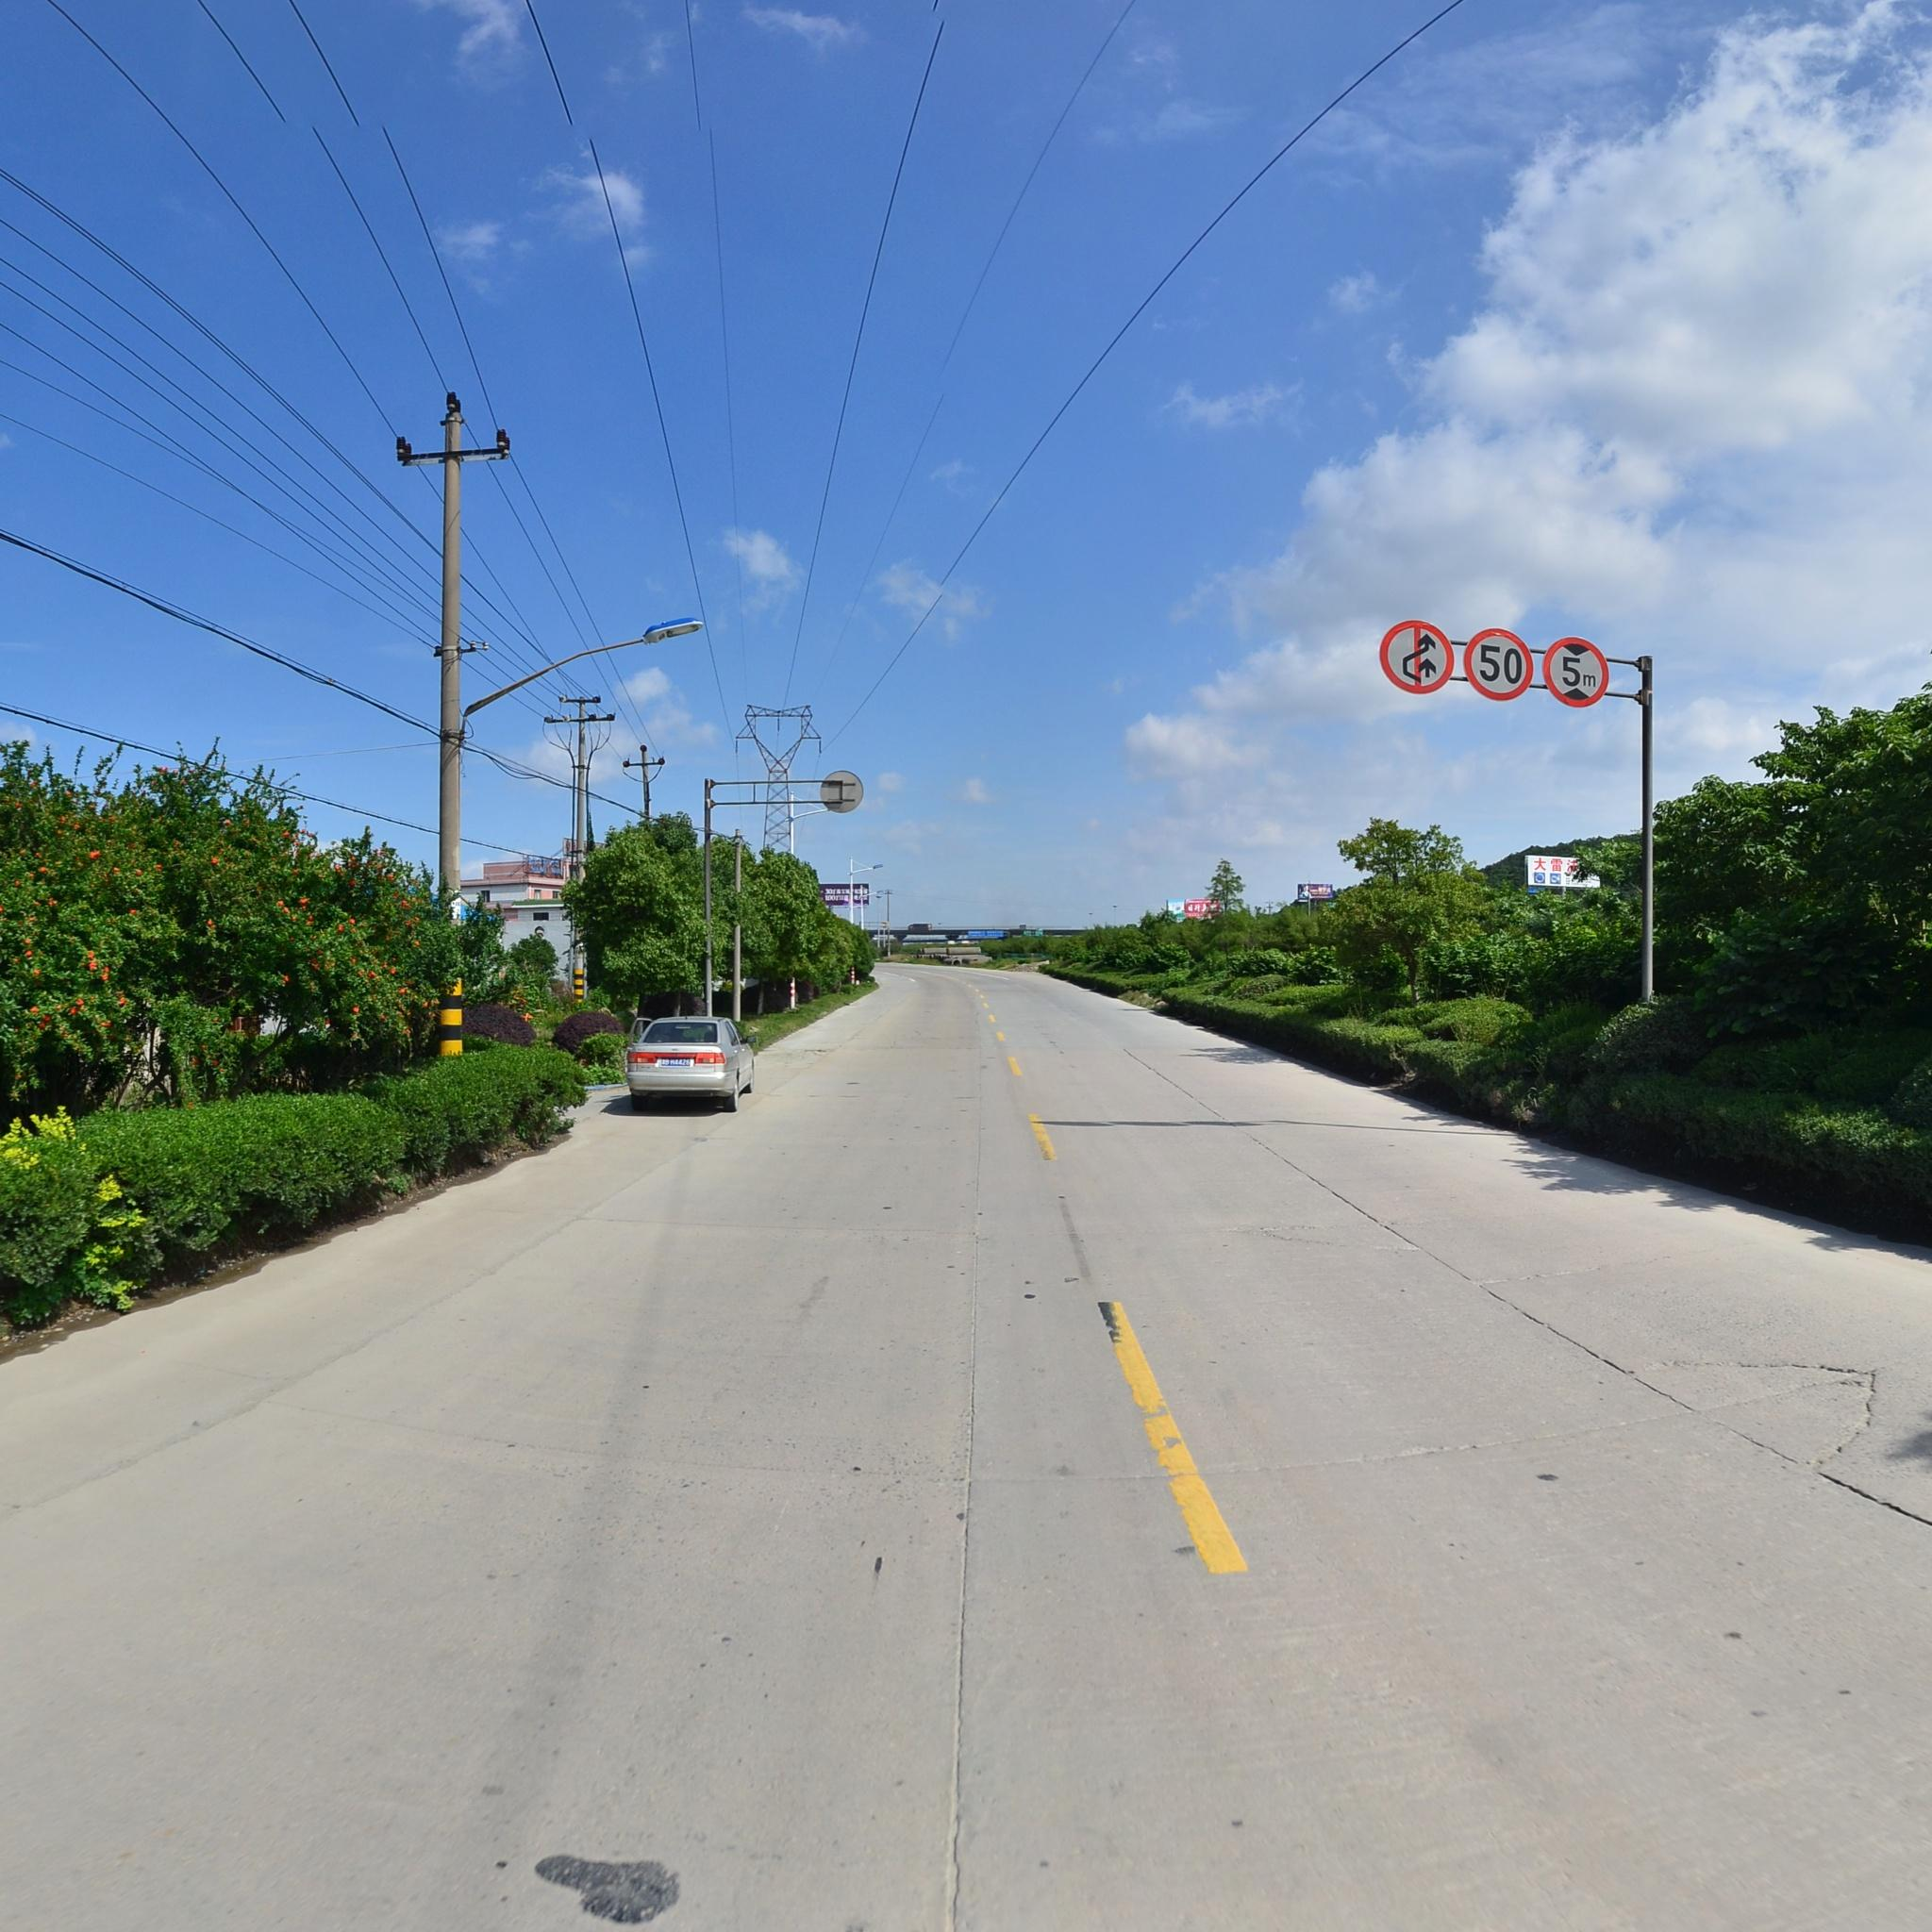ph5: (1550, 635, 1606, 709)
pl50: (1467, 623, 1532, 706)
